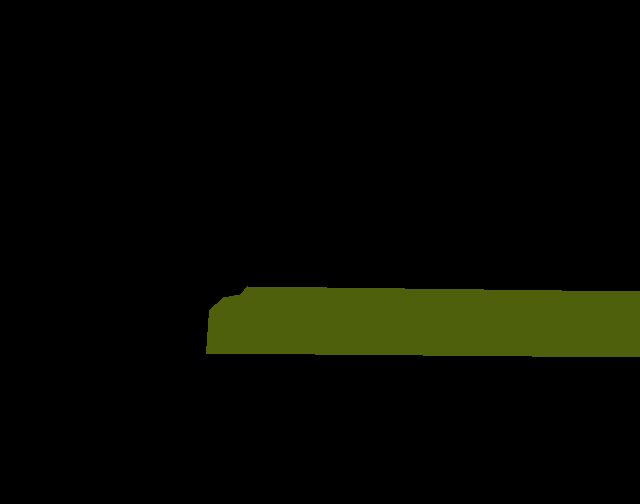Train: (206, 286, 640, 357)
